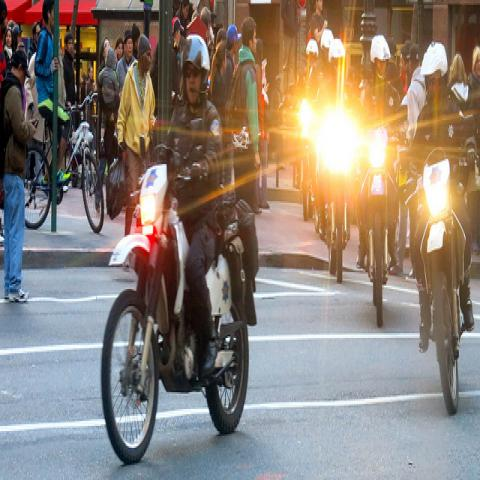motorcycle: (101, 167, 257, 458), (399, 142, 479, 418), (302, 103, 370, 284), (360, 128, 410, 328), (279, 102, 315, 229)
